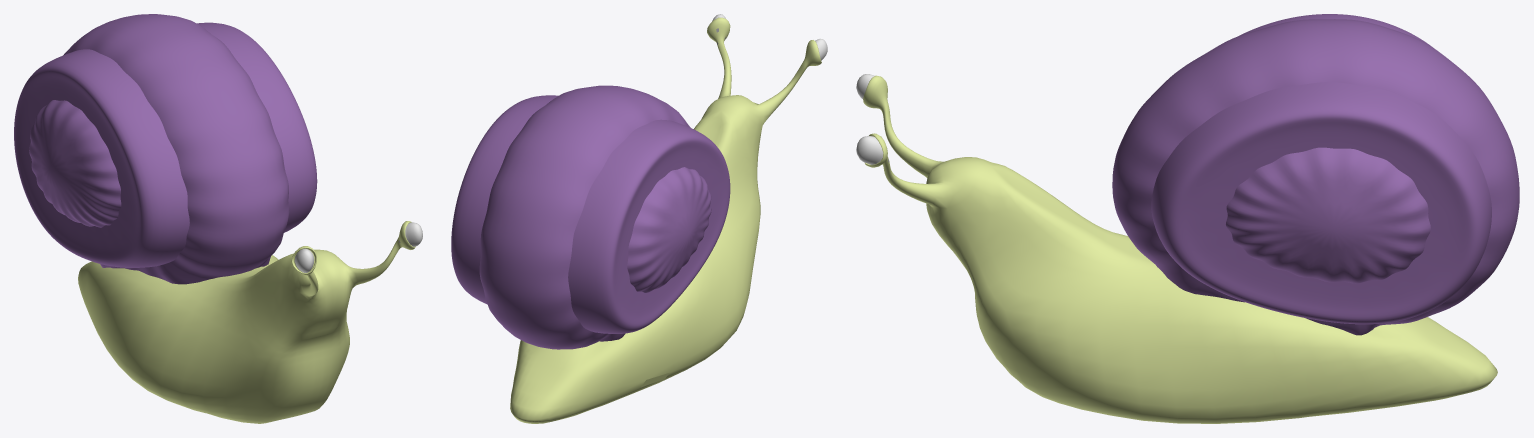
Rendered from SM_Snail.fbx.
The picture shows the model from 3 angles, left to right: view 1: azimuth 30°, elevation 25°; view 2: azimuth 150°, elevation 25°; view 3: azimuth 270°, elevation 25°; orthographic projection. The views are drawn at different scales.
Parts seen in each view (by area): view 1: pCylinder5, polySurface4; view 2: pCylinder5, polySurface4; view 3: pCylinder5, polySurface4, polySurface6.
Boxes of the visible parts, left/top/right/bottom form: pCylinder5: left=14, top=14, right=317, bottom=284; polySurface4: left=78, top=221, right=415, bottom=423; pCylinder5: left=451, top=85, right=730, bottom=349; polySurface4: left=510, top=17, right=821, bottom=423; pCylinder5: left=1112, top=14, right=1519, bottom=335; polySurface4: left=863, top=75, right=1497, bottom=423; polySurface6: left=856, top=136, right=883, bottom=164.
Size of the model in its own units: 0.6256 by 0.8182 by 1.37.
